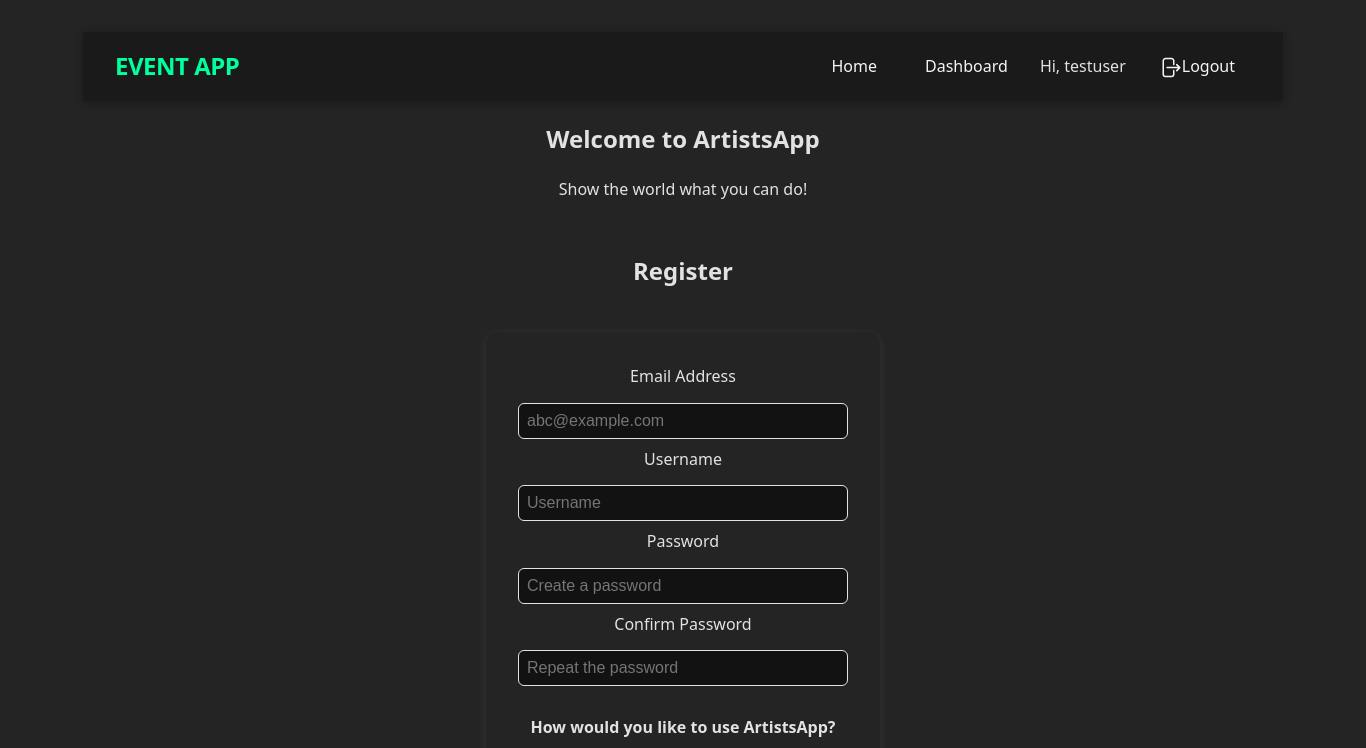
Scenario: Register › write on input fields and success register
Note: Type on fields
In the field with placeholder "abc@example.com": coordinates (683, 421) [518,403,848,439], type "testuser@gmail.com"
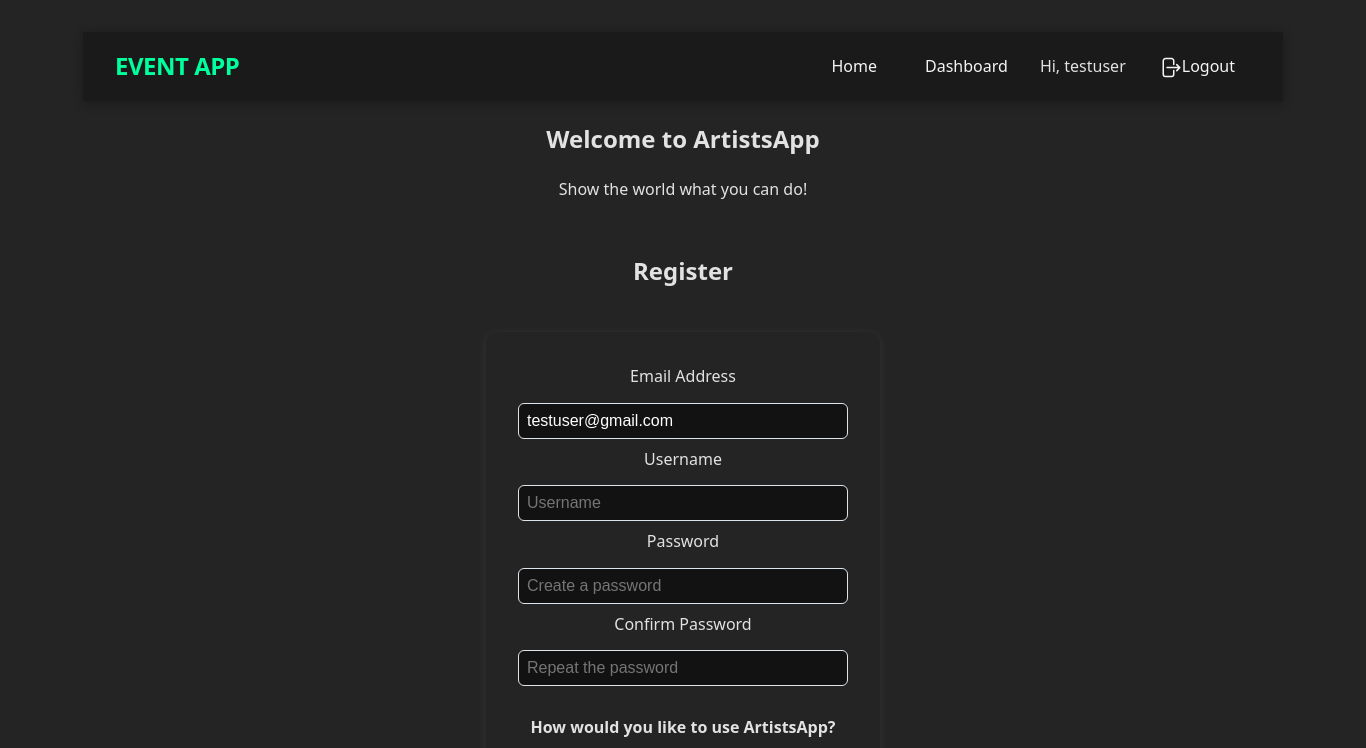
In the field with placeholder "Username": coordinates (683, 503) [518,485,848,521], type "testuser"
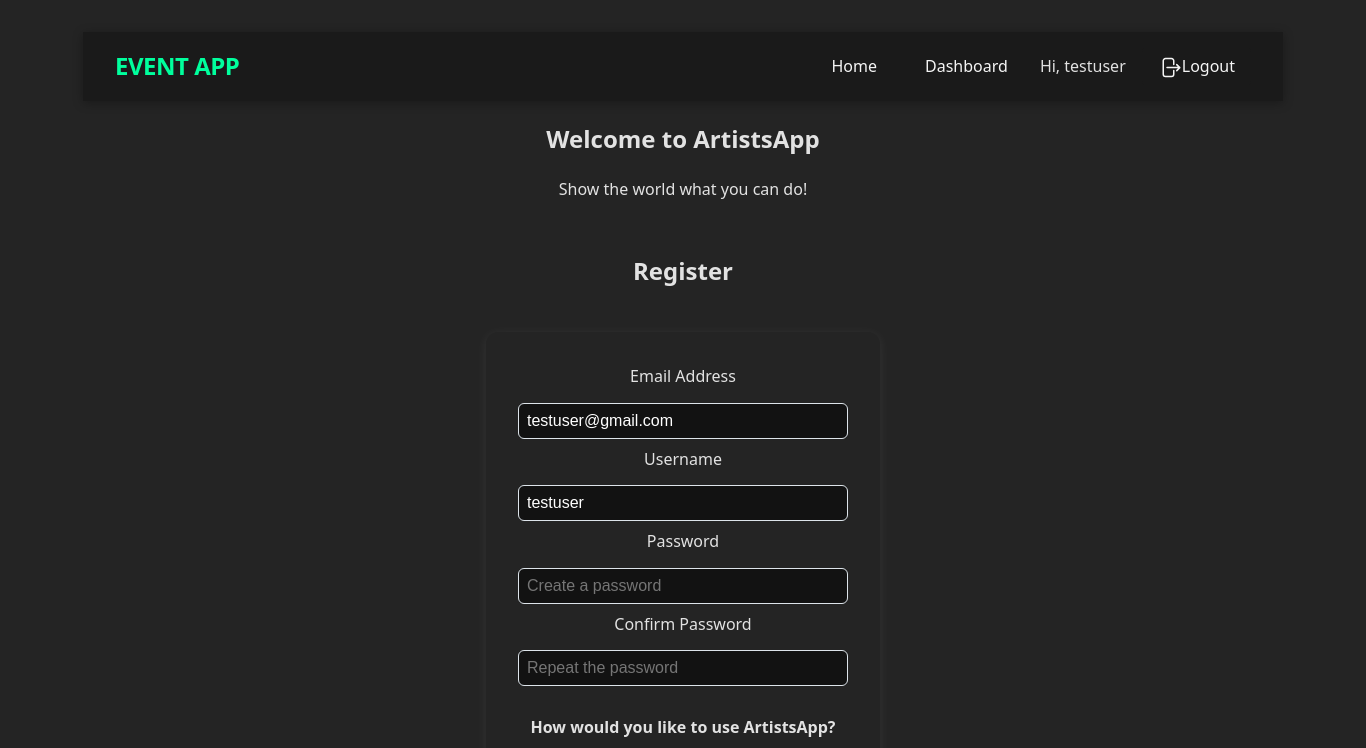
In the password field with placeholder "Create a password": coordinates (683, 586) [518,568,848,604], type "1234"
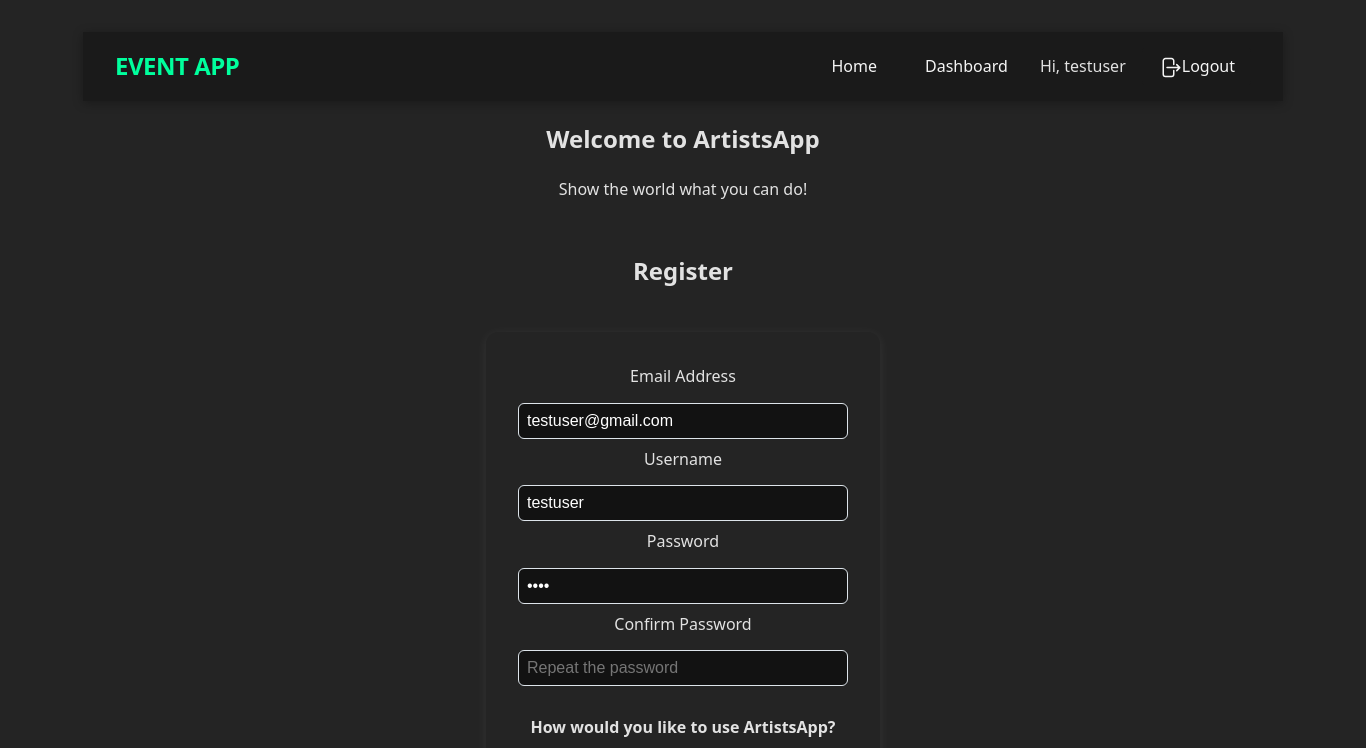
In the password field with placeholder "Repeat the password": coordinates (683, 668) [518,650,848,686], type "1234"
(page scrolled)
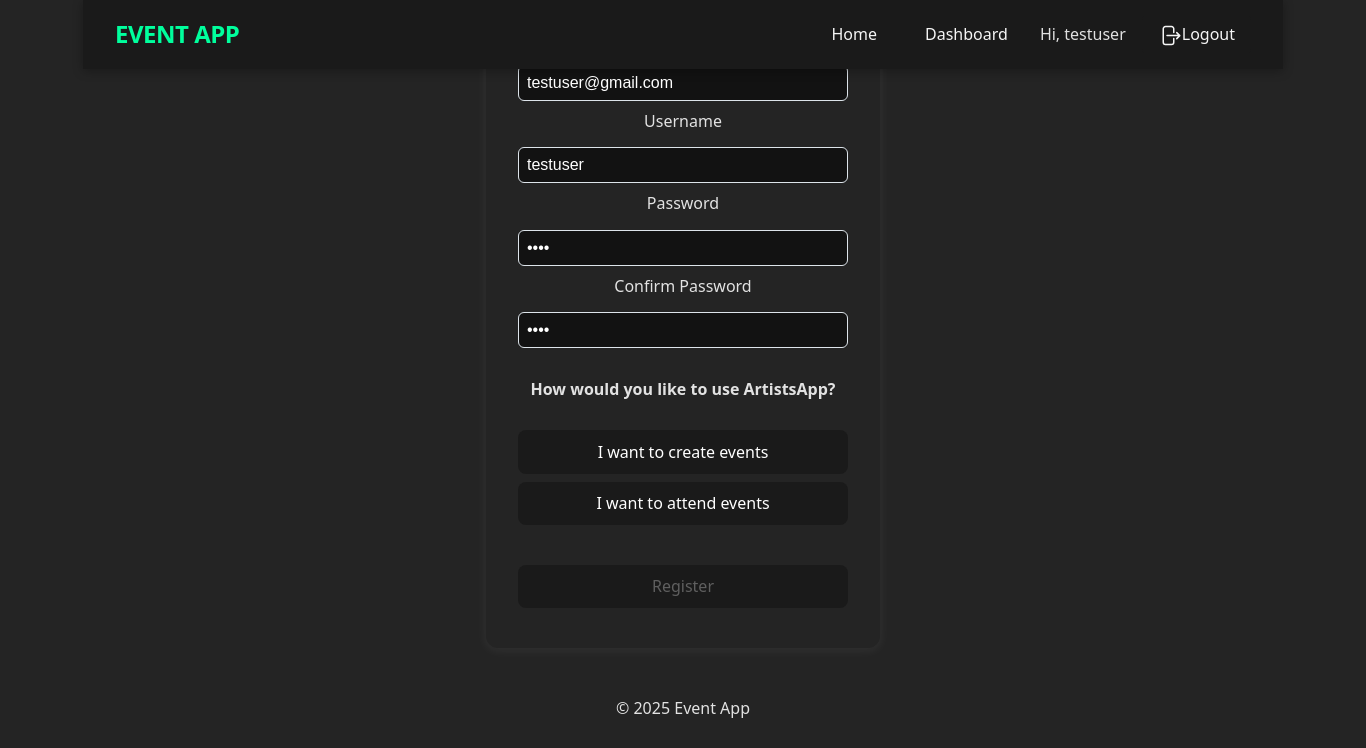
Click the button with aria-label "organizer": coordinates (683, 452) [518,430,848,474]
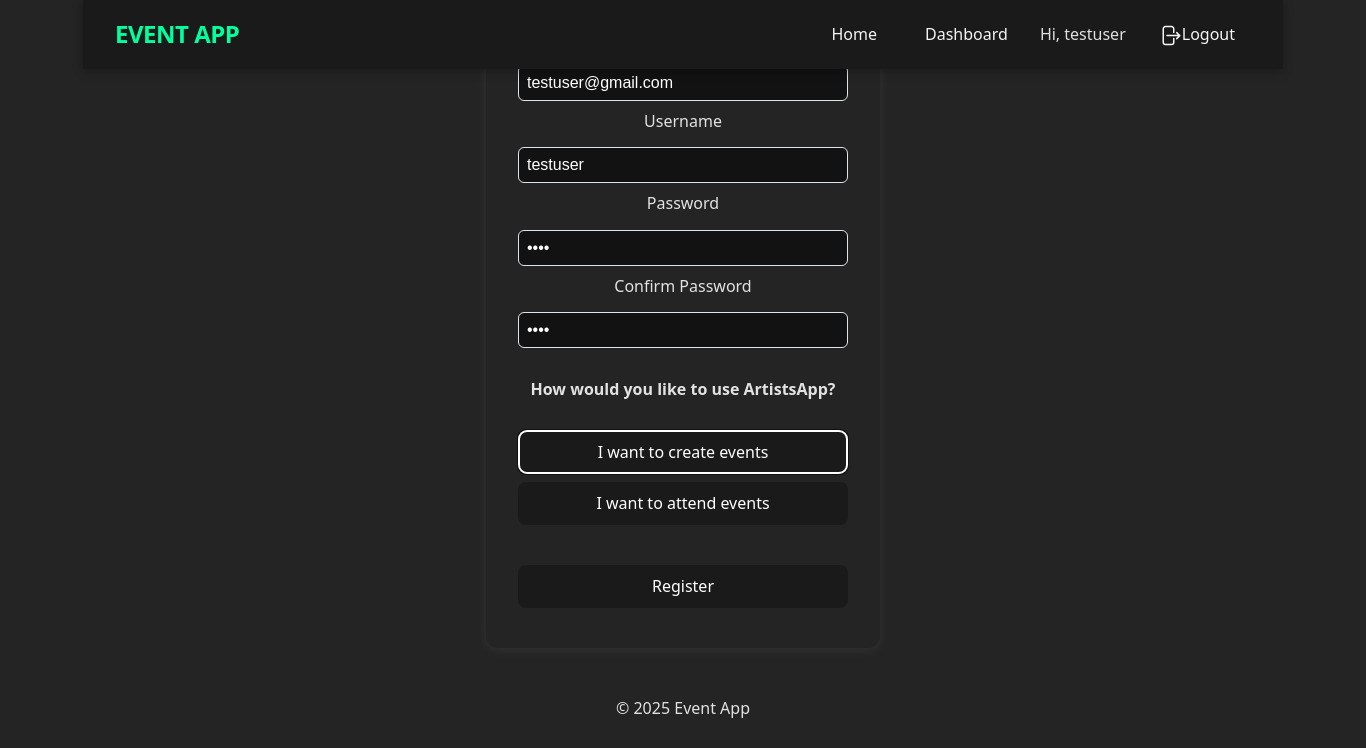
Now the button "Register" is enabled
Note: Click on register button
Click the button "Register": coordinates (683, 586) [518,565,848,608]
(page scrolled)
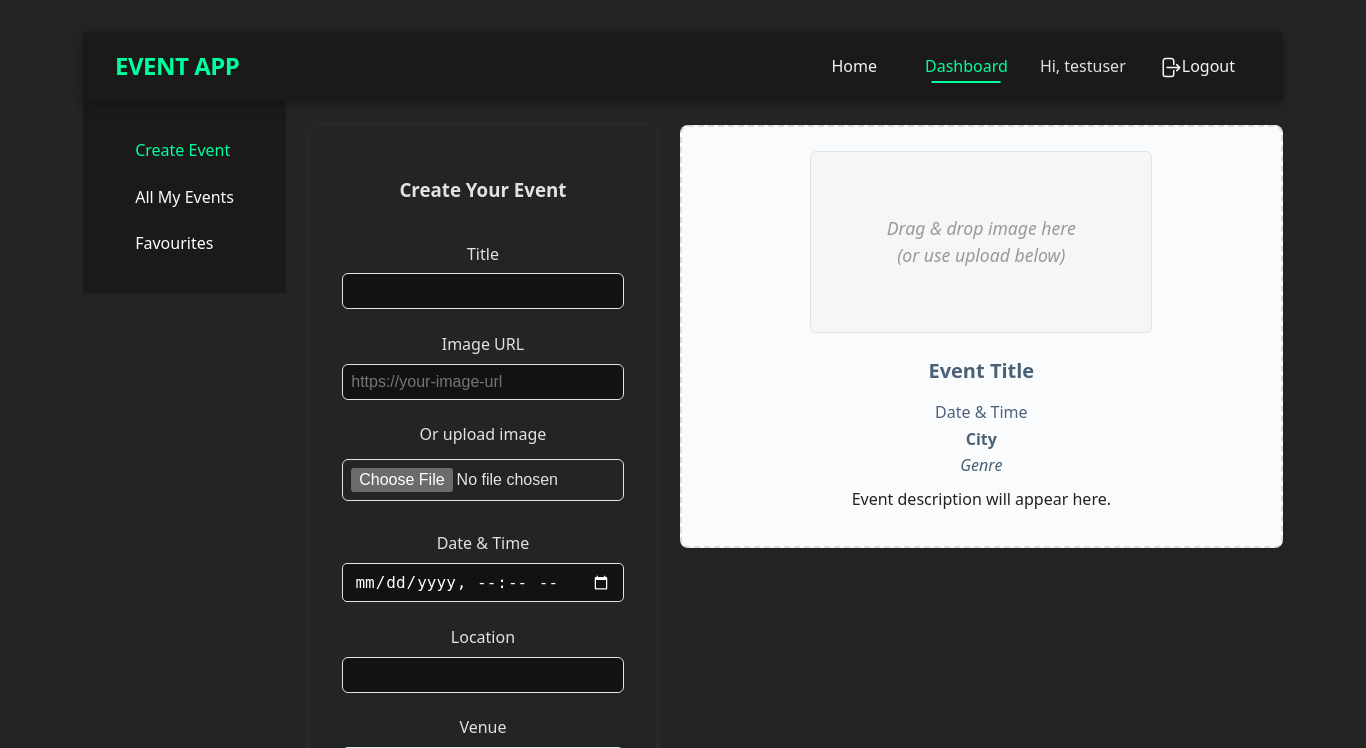
Now the heading "Create Your Event" is shown, box [400,176,566,202]
